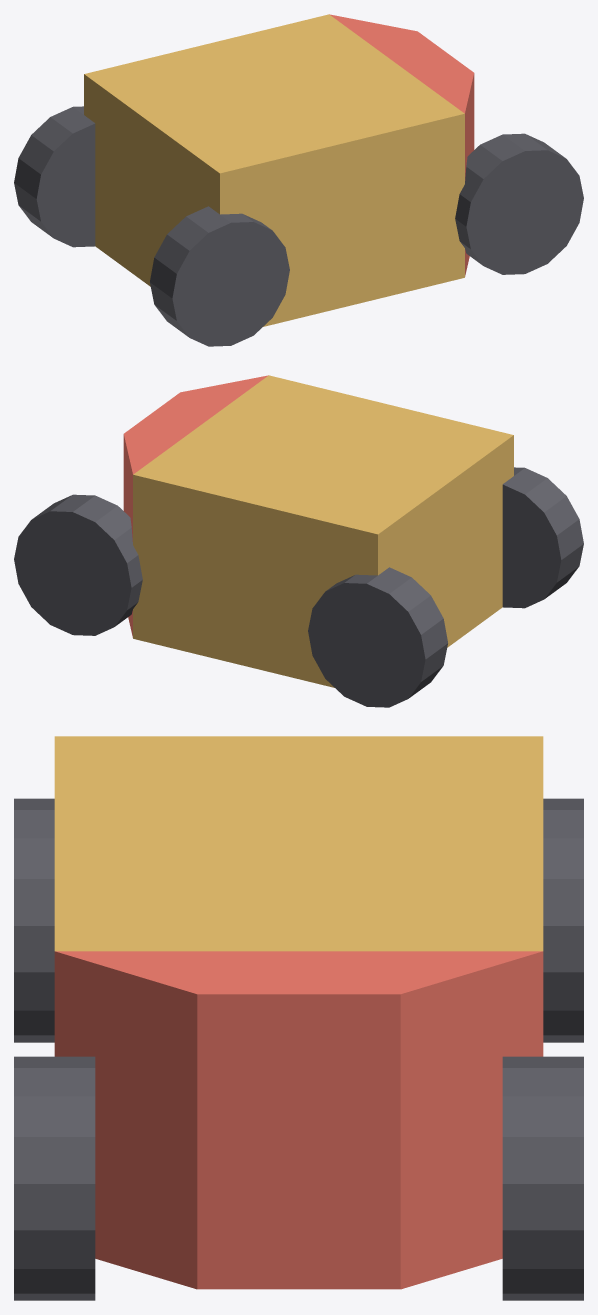
Rendered from ugv_x3plus_lowpoly.glb.
3 views of the same model, one above another, from view 1: azimuth 30°, elevation 25°; view 2: azimuth 150°, elevation 25°; view 3: azimuth 270°, elevation 25° (orthographic). The views are drawn at different scales.
Parts seen in each view (by area): view 1: Body, WheelRR, WheelFR, WheelRL; view 2: Body, WheelRL, WheelFL, WheelRR; view 3: Body, WheelFL, WheelFR, WheelRL, WheelRR.
Part boxes in pixels (x1,y1,x2,y2): Body: [84, 14, 474, 326]; WheelRR: [150, 206, 289, 346]; WheelFR: [455, 133, 583, 274]; WheelRL: [14, 106, 95, 247]; Body: [123, 375, 513, 687]; WheelRL: [308, 567, 447, 707]; WheelFL: [14, 494, 142, 635]; WheelRR: [502, 467, 583, 608]; Body: [54, 736, 543, 1289]; WheelFL: [502, 1056, 583, 1300]; WheelFR: [14, 1056, 95, 1300]; WheelRL: [543, 798, 583, 1042]; WheelRR: [14, 798, 54, 1042].
Bounding box in the file's own units: 0.42 × 0.16 × 0.28.
